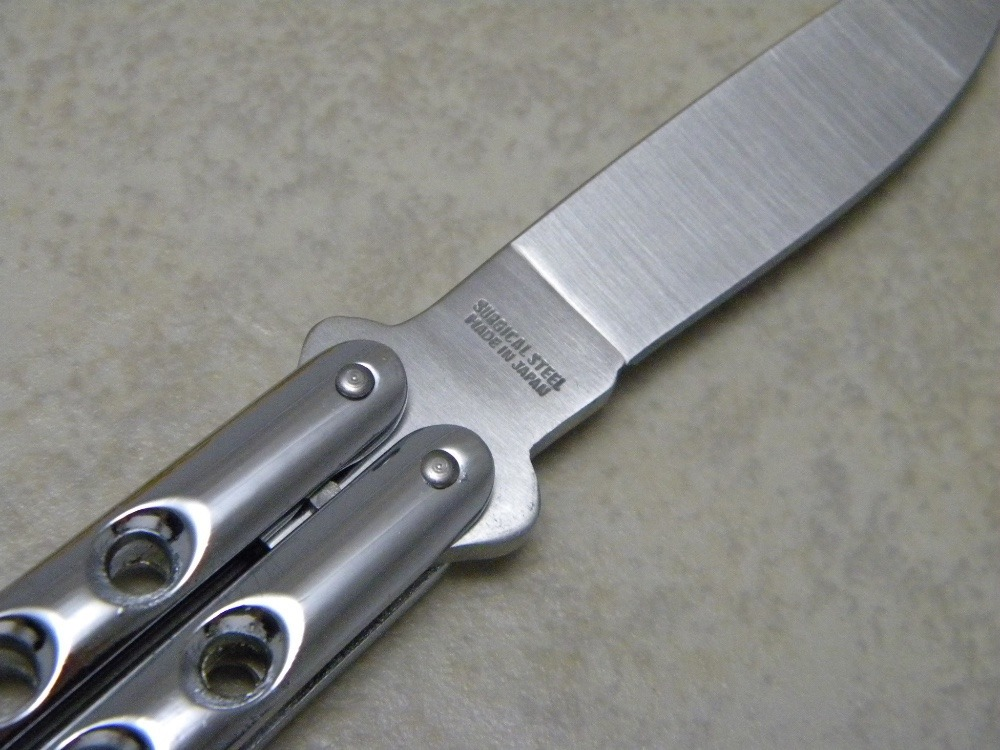knife: (5, 5, 1000, 750)
